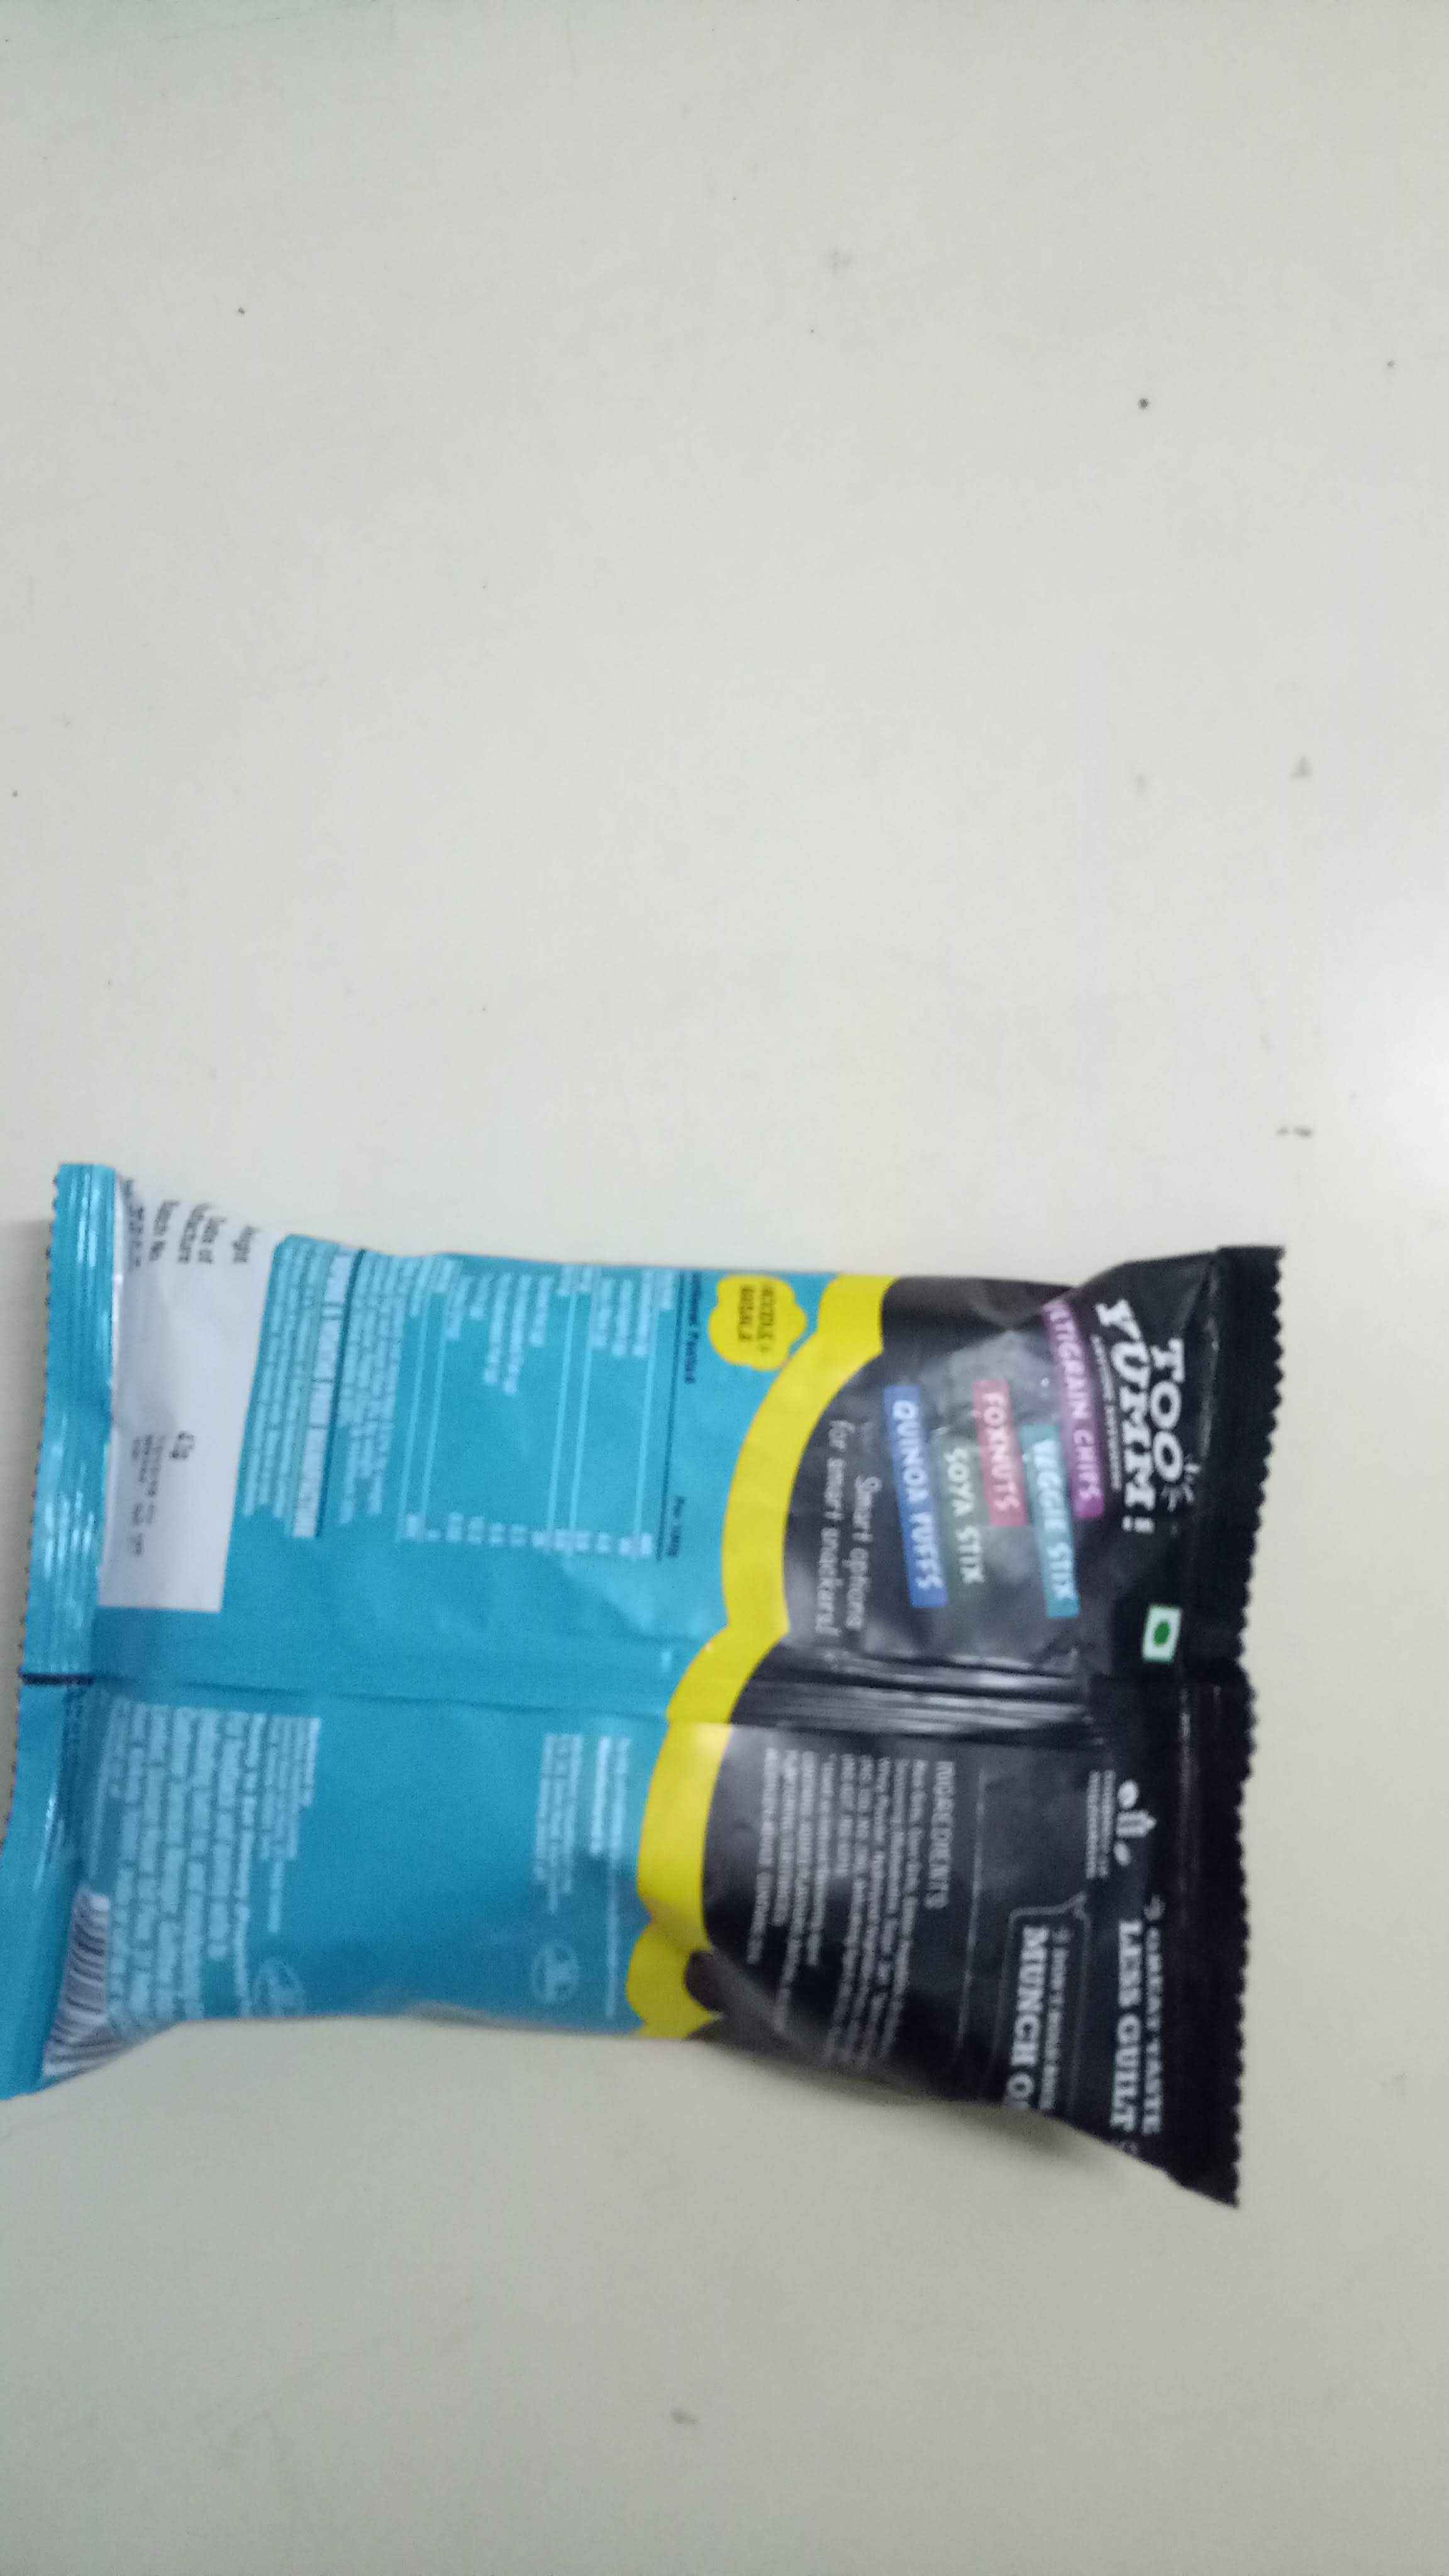tooyumm: (1070, 1290, 1215, 1573)
